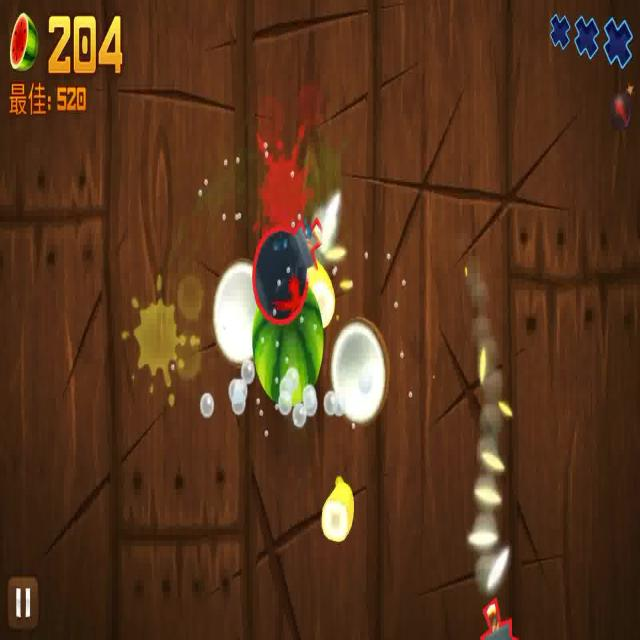bomb: (251, 217, 320, 321), (461, 567, 530, 640)
fruit: (254, 282, 320, 432), (332, 318, 388, 432), (314, 471, 362, 530)
